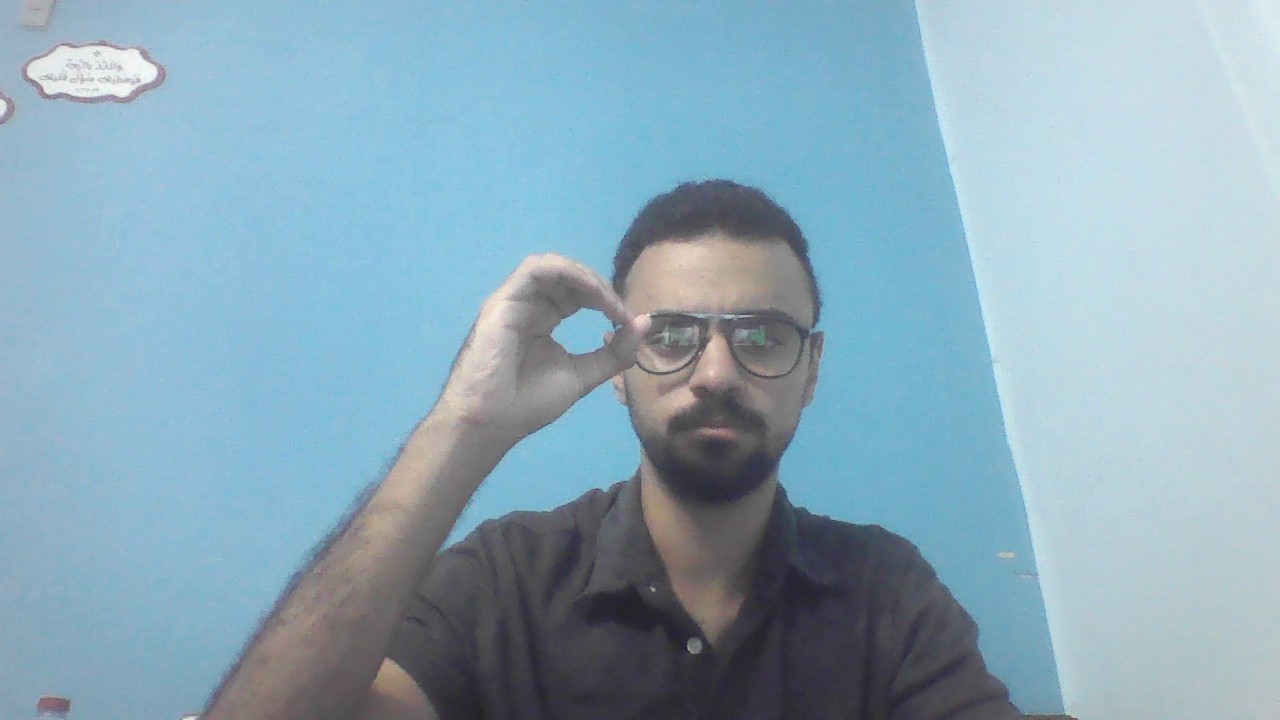okay: (442, 253, 649, 431)
